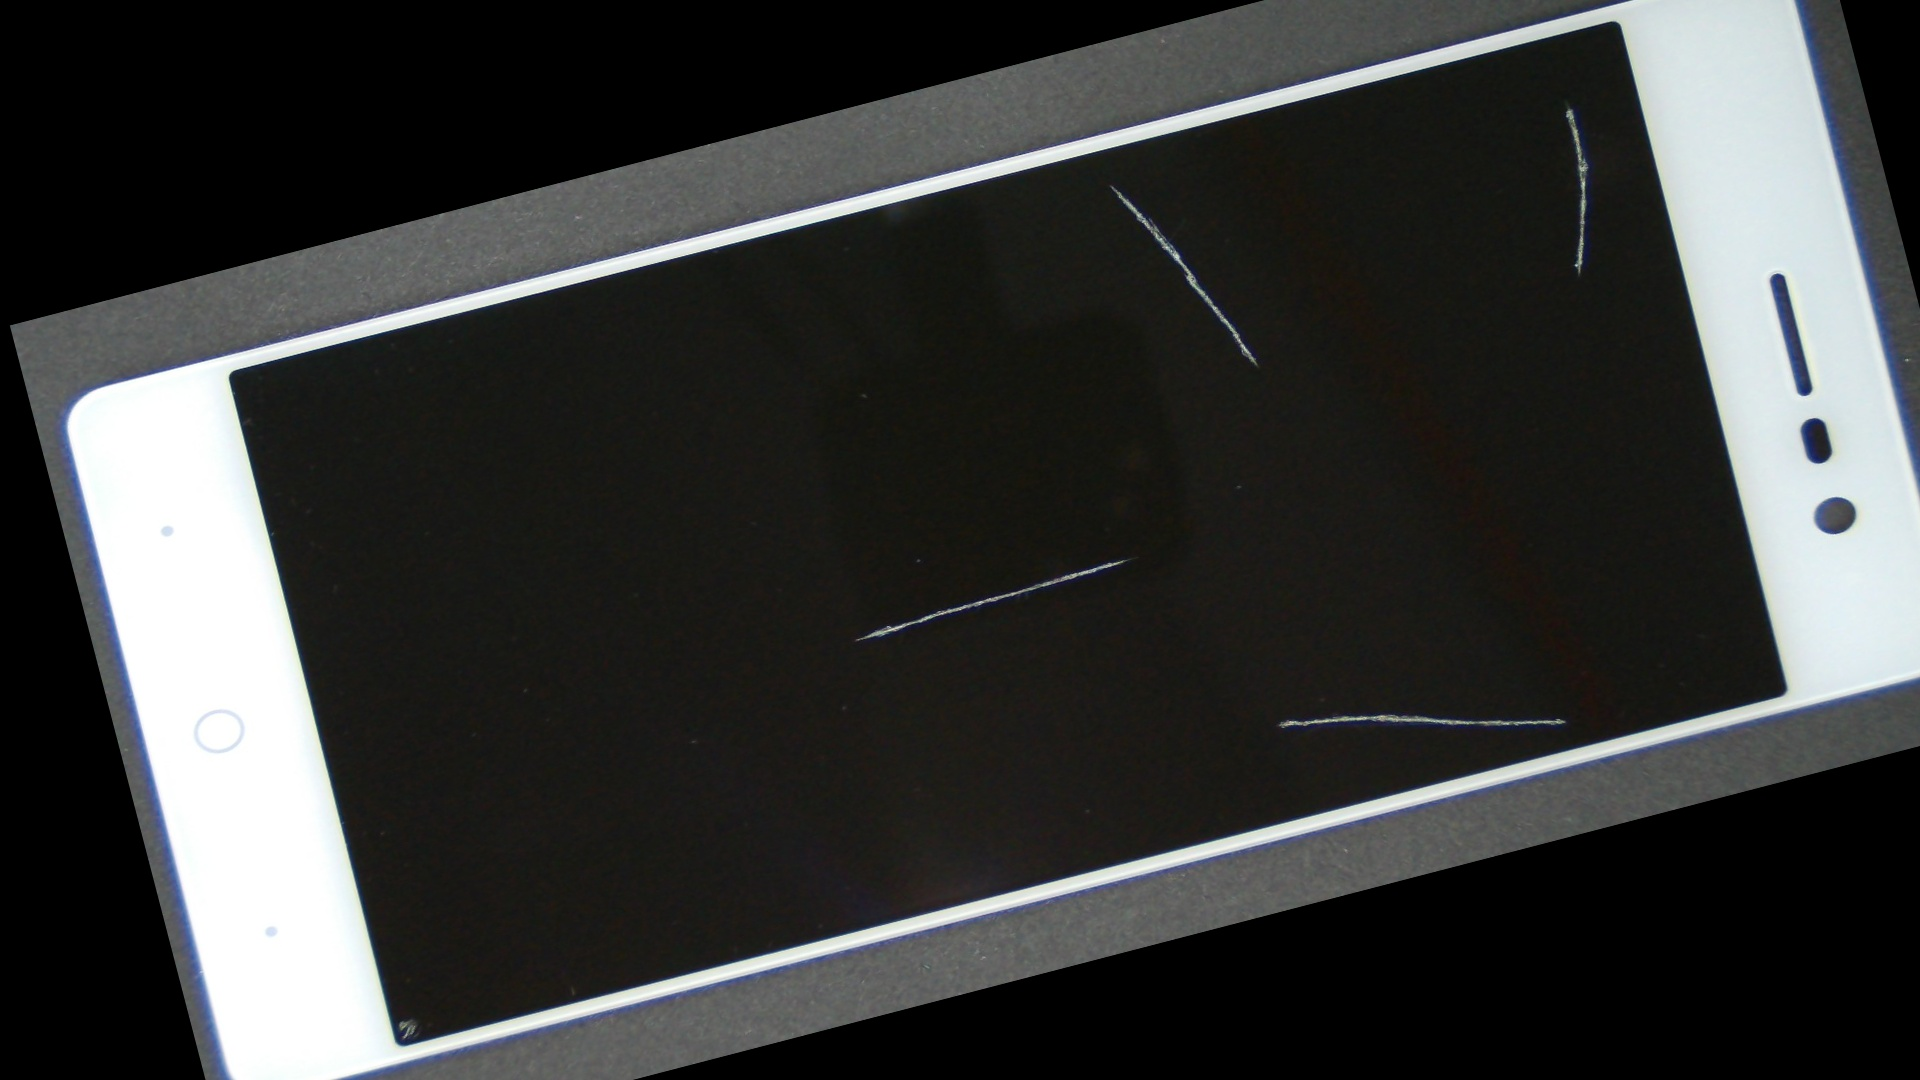oil: (647, 237, 1879, 1042), (559, 193, 1656, 934), (559, 0, 1660, 390), (789, 0, 1870, 385), (206, 621, 529, 1080)
